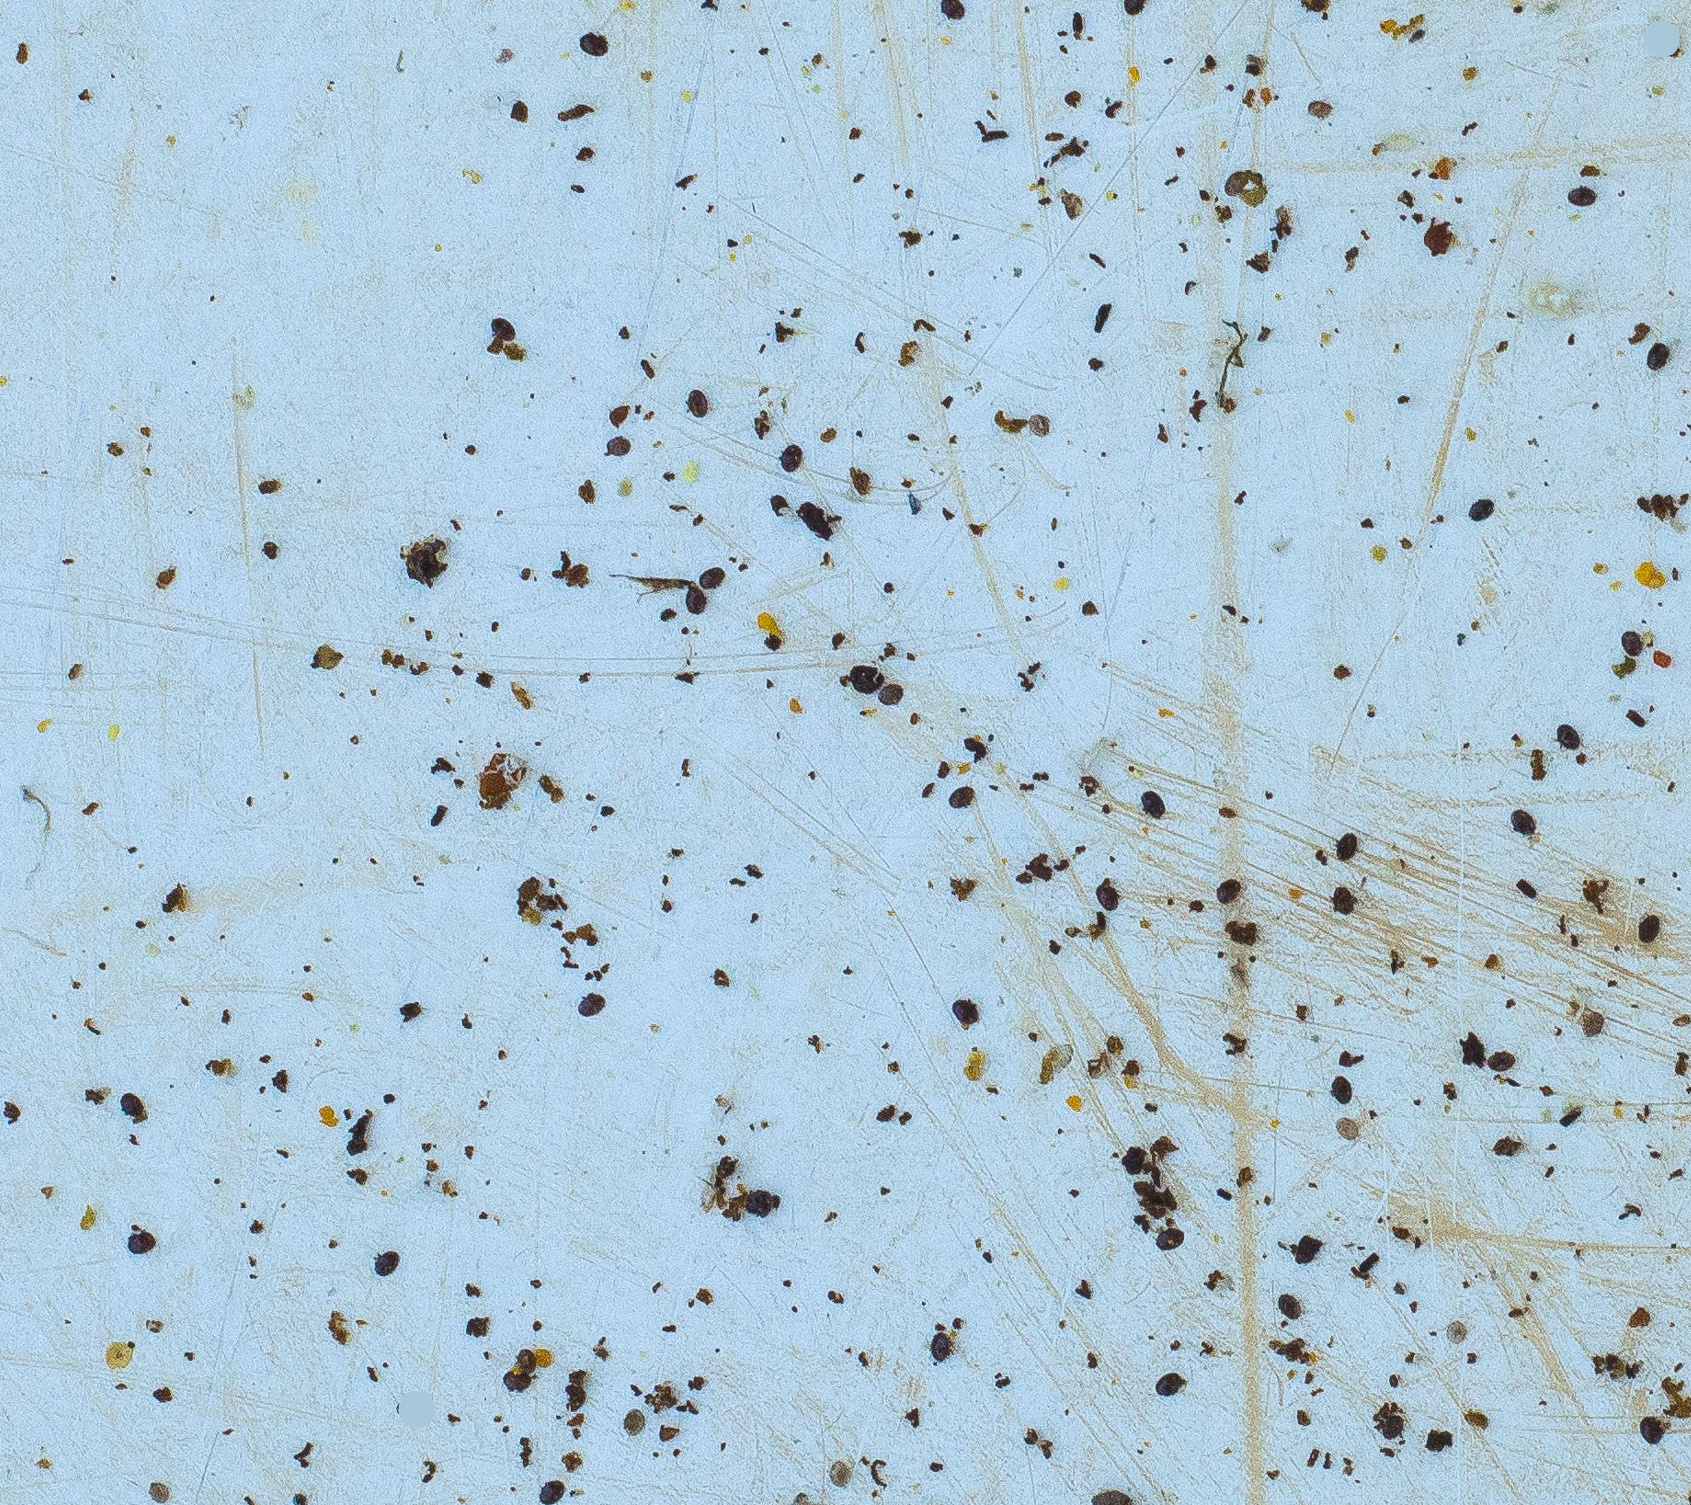Varroa: (1216, 163, 1257, 202), (507, 1339, 548, 1379), (495, 1364, 536, 1403), (613, 1402, 652, 1443), (1373, 1409, 1414, 1448), (1325, 1111, 1363, 1149), (1556, 723, 1589, 763), (599, 434, 633, 471), (1627, 909, 1662, 944), (569, 991, 603, 1026), (1485, 1046, 1518, 1079), (1323, 880, 1355, 915), (774, 443, 806, 476), (1325, 1069, 1357, 1103), (1509, 808, 1543, 840), (683, 382, 715, 415), (485, 309, 517, 341), (1639, 338, 1669, 370), (578, 29, 609, 61), (1466, 492, 1496, 523), (1271, 1290, 1302, 1321), (949, 997, 979, 1026), (1617, 628, 1646, 658), (1138, 793, 1167, 822), (1214, 875, 1244, 904), (376, 1245, 405, 1274), (681, 588, 710, 617), (119, 1090, 148, 1119), (1331, 837, 1360, 864), (1637, 1413, 1665, 1443), (876, 677, 904, 705), (1094, 885, 1122, 912), (1156, 1368, 1183, 1396), (1156, 1226, 1183, 1254), (931, 1335, 957, 1363), (697, 565, 725, 591), (1569, 180, 1597, 206), (947, 779, 973, 806), (126, 1226, 153, 1254)
